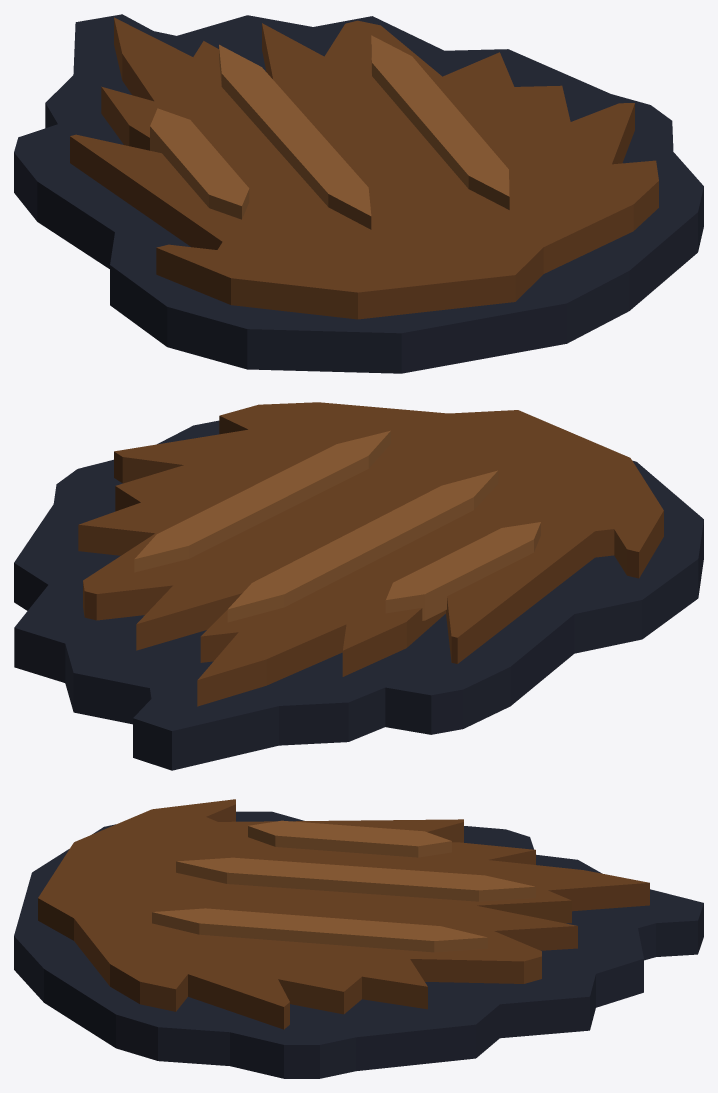
File: mammoth_fur.fbx
3 views of the same model, one above another, from view 1: azimuth 30°, elevation 25°; view 2: azimuth 150°, elevation 25°; view 3: azimuth 270°, elevation 25° (orthographic). The views are drawn at different scales.
Parts seen in each view (by area): view 1: mammoth_fur; view 2: mammoth_fur; view 3: mammoth_fur.
Boxes of the visible parts, <box> form: mammoth_fur: <box>14,14,703,373</box>; mammoth_fur: <box>14,402,703,770</box>; mammoth_fur: <box>14,799,703,1078</box>.
Size of the model in its own units: 0.8846 by 0.12 by 1.11.
Materials: 1 (1 with a texture image).
